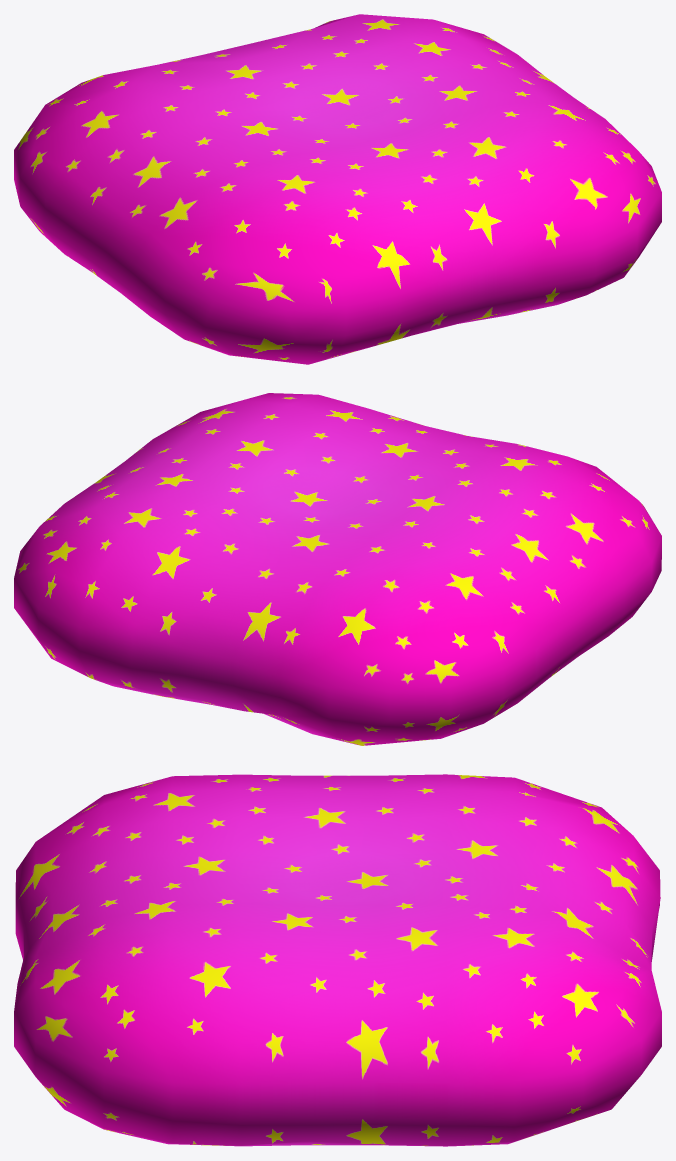
Rendered from FloorP.glb.
3 views of the same model, one above another, from view 1: azimuth 30°, elevation 25°; view 2: azimuth 150°, elevation 25°; view 3: azimuth 270°, elevation 25° (orthographic). The views are drawn at different scales.
Visible parts, largest first — view 1: Mball.009; view 2: Mball.009; view 3: Mball.009.
Part boxes in pixels (bbox=[...]): Mball.009: bbox=[14, 14, 661, 364]; Mball.009: bbox=[14, 393, 661, 745]; Mball.009: bbox=[14, 774, 661, 1146].
Size of the model in its own units: 29.71 by 9.83 by 29.11.
1 material, 1 textured.
